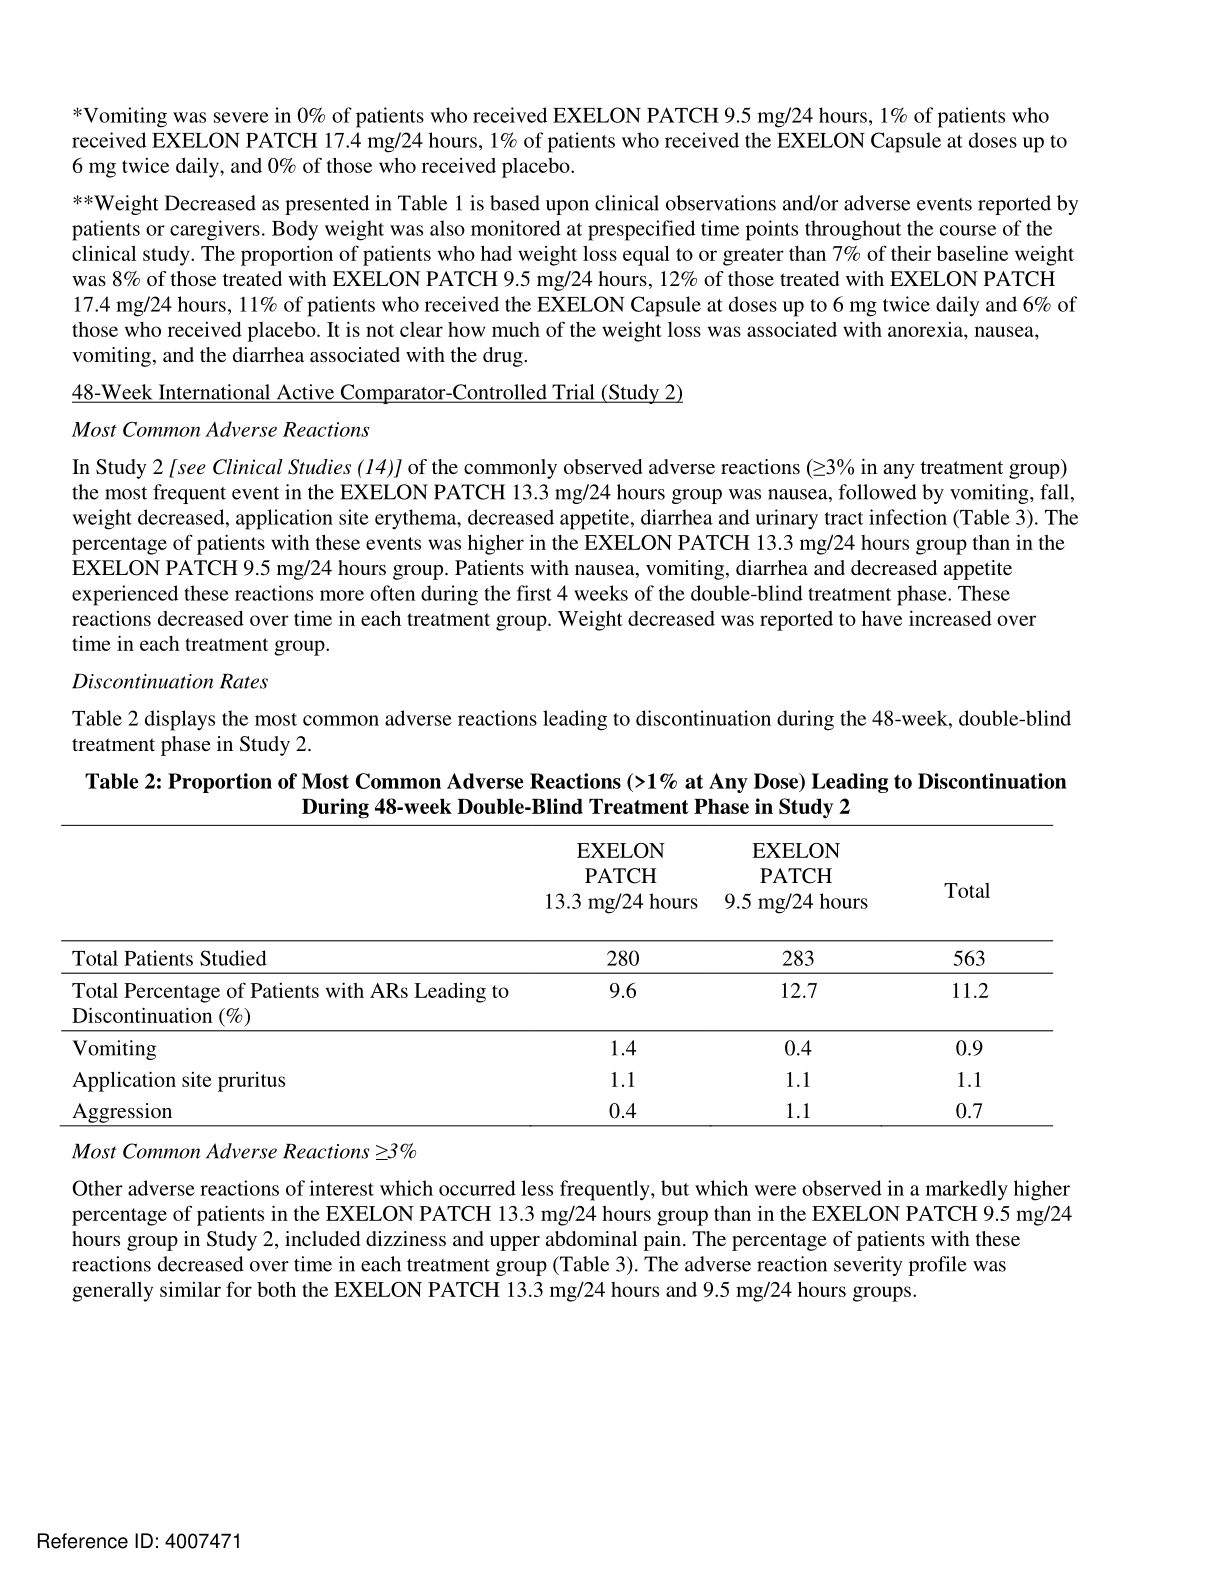partial_lined: (60, 823, 1053, 1128)
